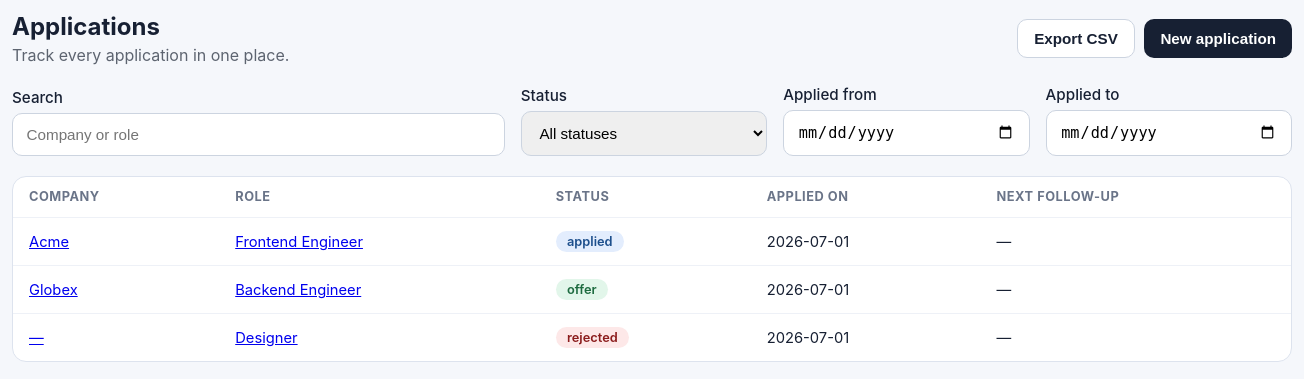
Scenario: ApplicationsPage › filters by status
The width and height of the screenshot is (1304, 379).
Check: the cell "Acme" is shown, box [13,218,219,266]
Select "rejected" in the dropdown labelled "Status" at (644, 133), box [521,111,767,156]
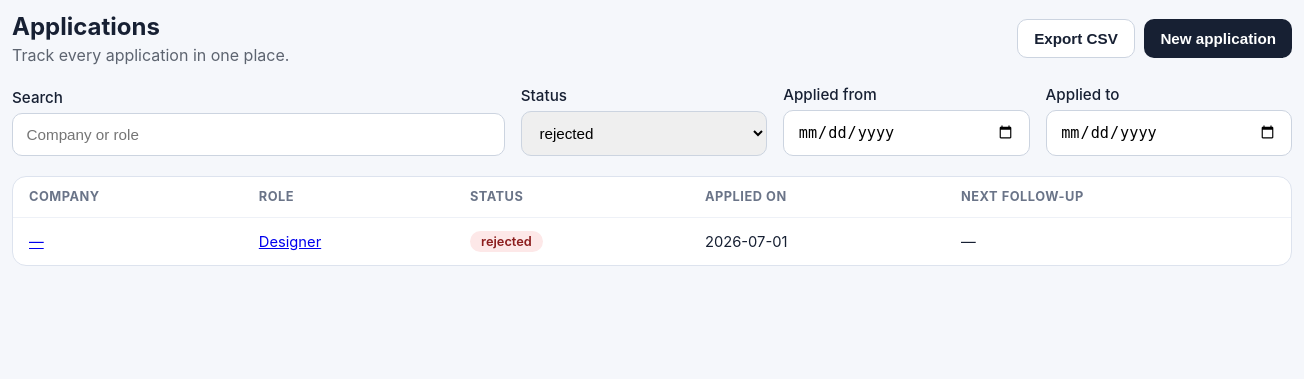
Check: the cell "Designer" is shown, box [243,218,454,265]
Check: the link "Frontend Engineer" is gone
